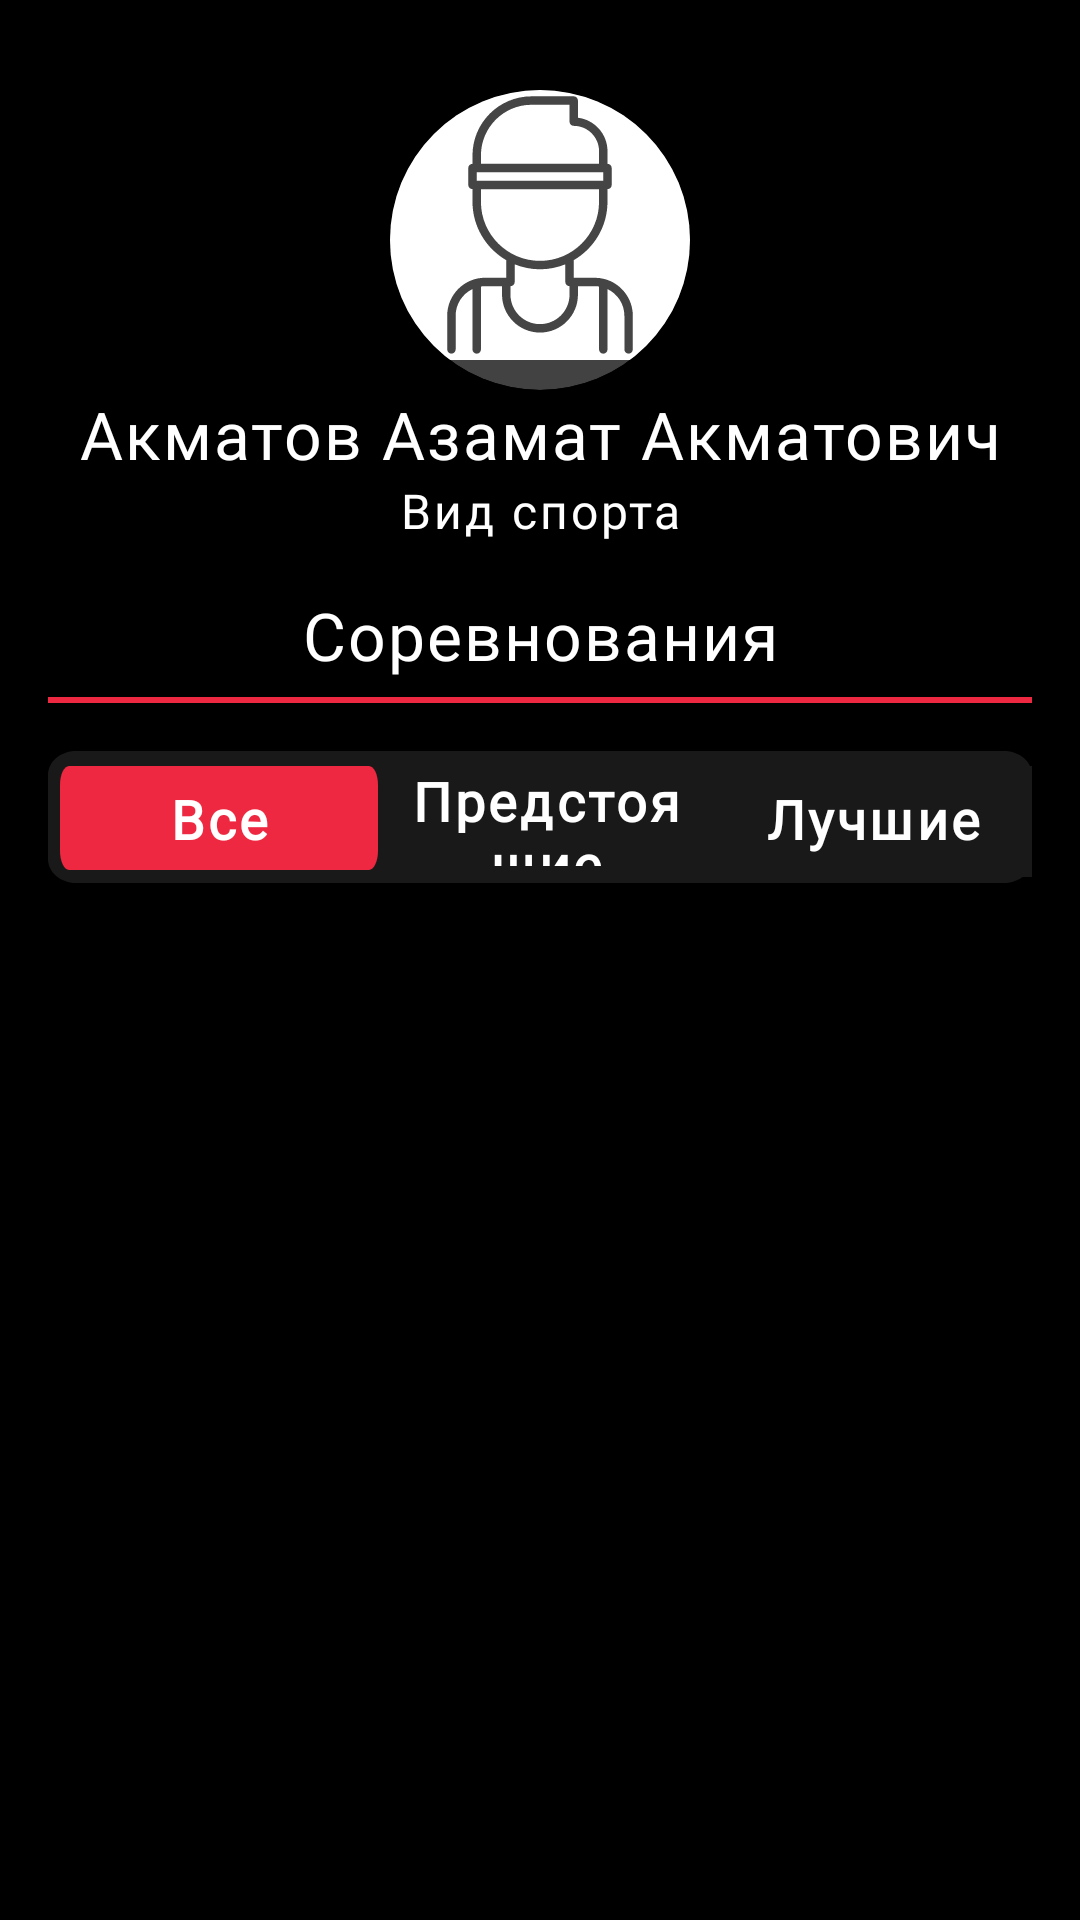

Screen size 1080w x 1920h. Icon name, then its center in pixels as [x,y]:
user: [540,225]
